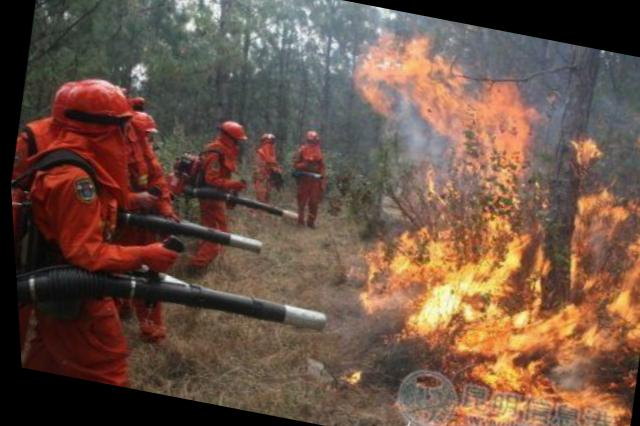fire: (289, 29, 640, 423)
